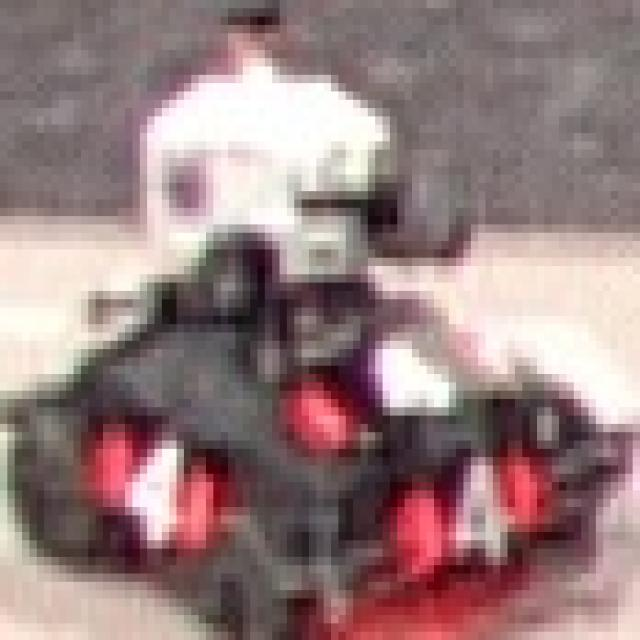R4: (56, 407, 224, 565), (268, 316, 482, 440), (372, 441, 548, 574)
